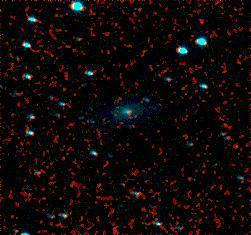star: (223, 131, 251, 161)
